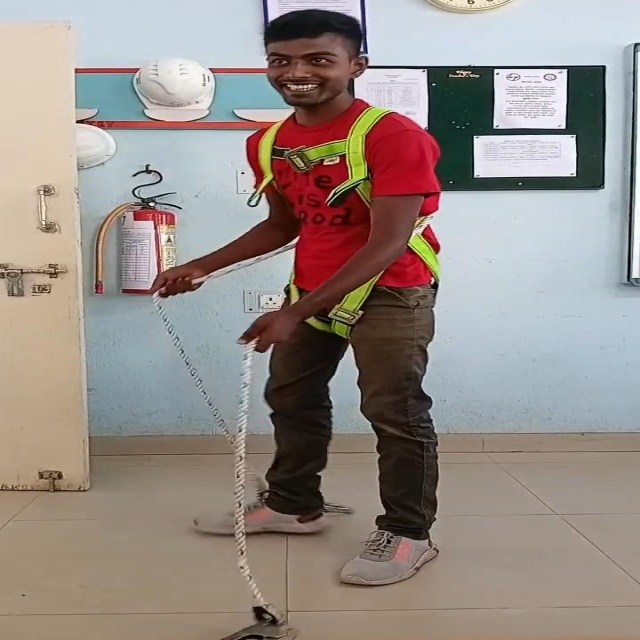Arnes_seguridad: (236, 96, 452, 342)
